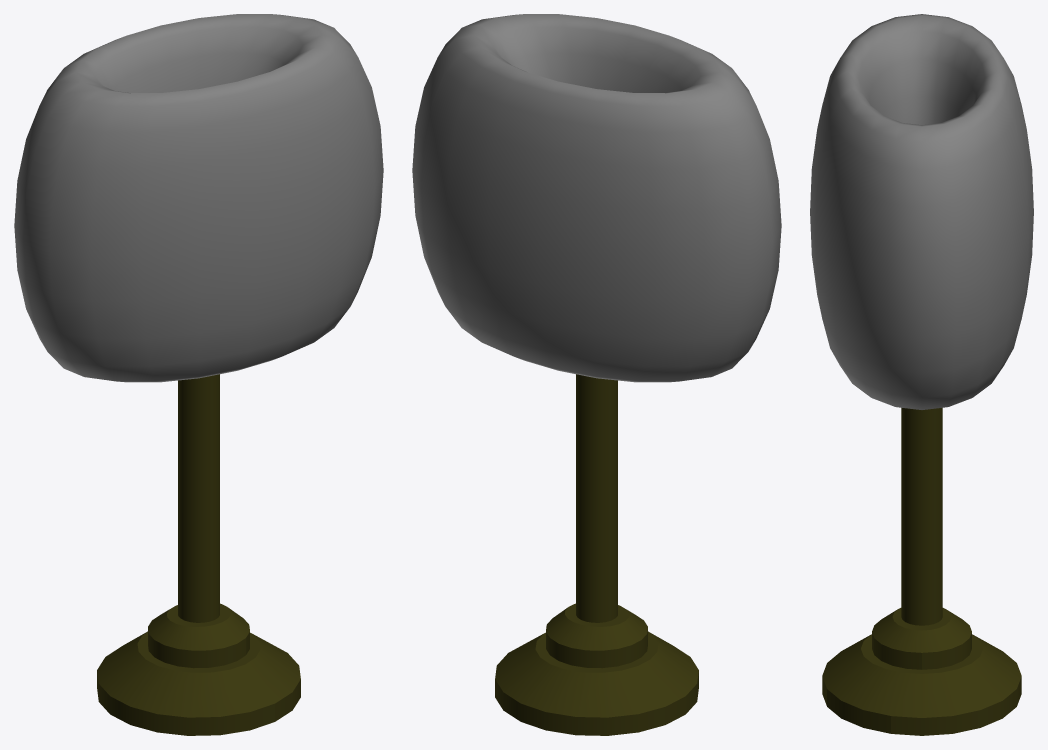
The model's file is LAMP_TEXTURE.obj.
3 views of the same model, side by side, from view 1: azimuth 30°, elevation 25°; view 2: azimuth 150°, elevation 25°; view 3: azimuth 270°, elevation 25° (orthographic). The views are drawn at different scales.
Parts seen in each view (by area): view 1: lampUV, pCylinder1, LampUV, lampUV1; view 2: lampUV, pCylinder1, LampUV, lampUV1; view 3: lampUV, pCylinder1, LampUV, lampUV1.
Part boxes in pixels (x1,y1,x2,y2): lampUV: [14, 14, 383, 382]; pCylinder1: [97, 631, 300, 735]; LampUV: [178, 374, 219, 622]; lampUV1: [148, 603, 249, 668]; lampUV: [412, 14, 781, 382]; pCylinder1: [495, 631, 698, 735]; LampUV: [576, 374, 617, 622]; lampUV1: [546, 603, 647, 668]; lampUV: [810, 14, 1033, 409]; pCylinder1: [822, 634, 1021, 735]; LampUV: [901, 407, 942, 625]; lampUV1: [872, 608, 971, 669].
Size of the model in its own units: 7.84 by 13.64 by 4.45.
